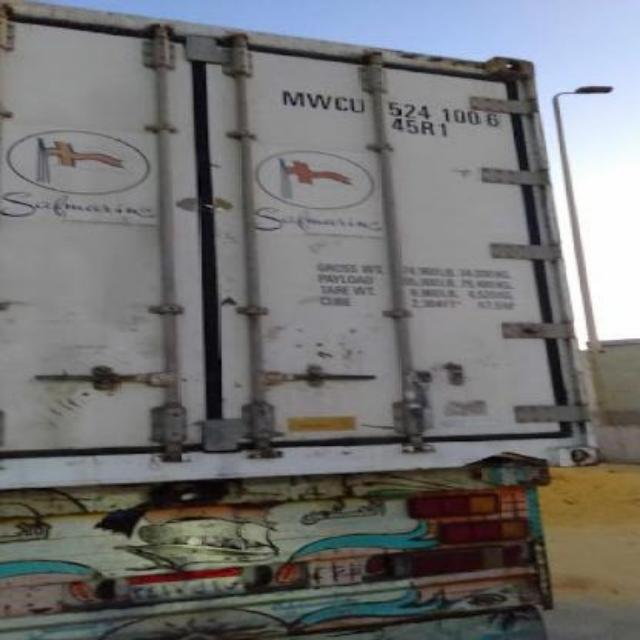0: (466, 104, 484, 126), (452, 102, 464, 126)
1: (440, 102, 452, 122)
2: (400, 98, 418, 120)
4: (418, 101, 432, 122)
5: (388, 98, 402, 118)
6: (484, 108, 502, 128)
C: (336, 89, 348, 115)
M: (276, 84, 306, 112)
U: (350, 91, 368, 115)
W: (306, 90, 334, 112)
